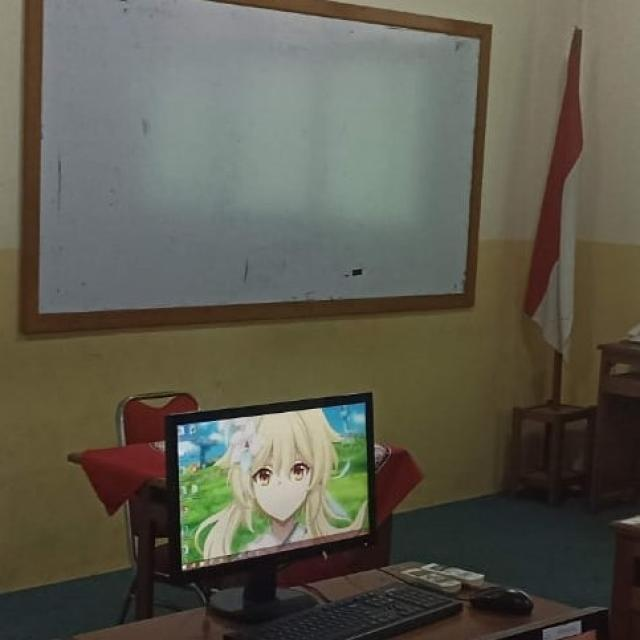onscreen: (169, 403, 370, 569)
